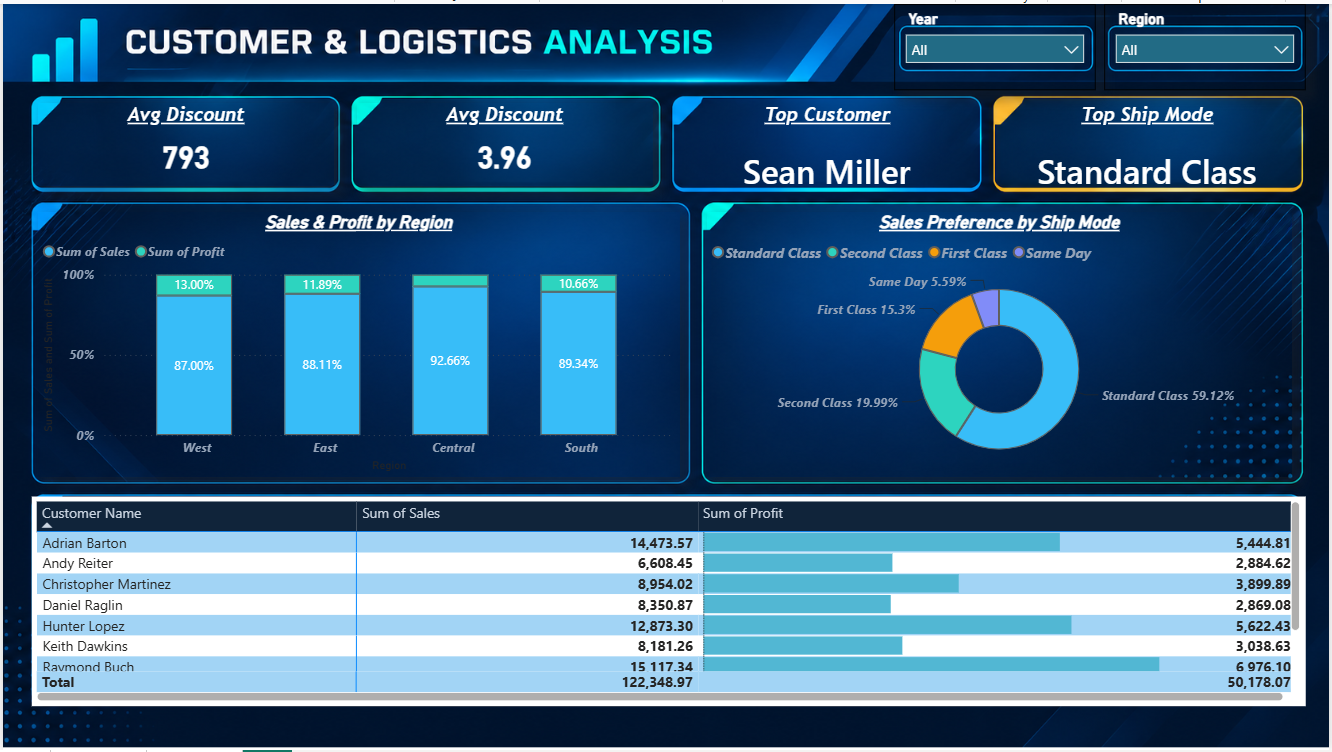

What the dashboard file says about the page in this screenshot:
{"tool":"powerbi","page":{"name":"Page 3","canvas":[1280,720],"ordinal":2},"visuals":[{"type":"card","title":"Avg Discount","fields":{"Values":["Cleaned_Superstore_Sales.Total Customers"]},"box":[33.8,95.3,285.9,80.8],"z":0},{"type":"slicer","fields":{"Values":["Cleaned_Superstore_Sales.Ship Date.Variation.Date Hierarchy.Year"]},"box":[860.2,0,194.2,83.2],"z":1},{"type":"slicer","fields":{"Values":["Cleaned_Superstore_Sales.Region"]},"box":[1062.9,0,194.2,83.2],"z":2},{"type":"card","title":"Avg Discount","fields":{"Values":["Cleaned_Superstore_Sales.Avg Delivery"]},"box":[341.4,95.3,285.9,80.8],"z":5},{"type":"cardVisual","title":"Top Customer","fields":{"Data":["Min(Cleaned_Superstore_Sales.Customer Name)"]},"box":[652.7,95.3,285.9,143.6],"z":6},{"type":"hundredPercentStackedColumnChart","title":" Sales & Profit by Region","fields":{"Category":["Cleaned_Superstore_Sales.Region"],"Y":["Sum(Cleaned_Superstore_Sales.Sales)","Sum(Cleaned_Superstore_Sales.Profit)"]},"box":[33.8,200.3,618.9,255.8],"z":8},{"type":"pieChart","title":" Sales Preference by Ship Mode","fields":{"Category":["Cleaned_Superstore_Sales.Ship Mode"],"Y":["Sum(Cleaned_Superstore_Sales.Sales)"]},"box":[679.2,200.3,564.6,255.8],"z":9},{"type":"pivotTable","fields":{"Values":["Sum(Cleaned_Superstore_Sales.Sales)","Sum(Cleaned_Superstore_Sales.Profit)"],"Rows":["Cleaned_Superstore_Sales.Customer Name"]},"box":[27.7,475.3,1229.4,202.7],"z":10},{"type":"cardVisual","title":"Top Ship Mode","fields":{"Data":["Min(Cleaned_Superstore_Sales.Ship Mode)"]},"box":[961.5,95.3,285.9,143.6],"z":11}]}

Visuals, with their boxes in screenshot pixels (x1, y1, x2, y2), scaled from the page's 1280x720 canvas onto the 1332x752 screenshot:
"Avg Discount" card: 35, 100, 333, 184
slicer - Cleaned_Superstore_Sales.Ship Date.Variation.Date Hierarchy.Year: 895, 0, 1097, 87
slicer - Cleaned_Superstore_Sales.Region: 1106, 0, 1308, 87
"Avg Discount" card: 355, 100, 653, 184
"Top Customer" cardVisual: 679, 100, 977, 250
" Sales & Profit by Region" hundredPercentStackedColumnChart: 35, 209, 679, 476
" Sales Preference by Ship Mode" pieChart: 707, 209, 1294, 476
pivotTable - Sum(Cleaned_Superstore_Sales.Sales) x Sum(Cleaned_Superstore_Sales.Profit): 29, 496, 1308, 708
"Top Ship Mode" cardVisual: 1001, 100, 1298, 250
